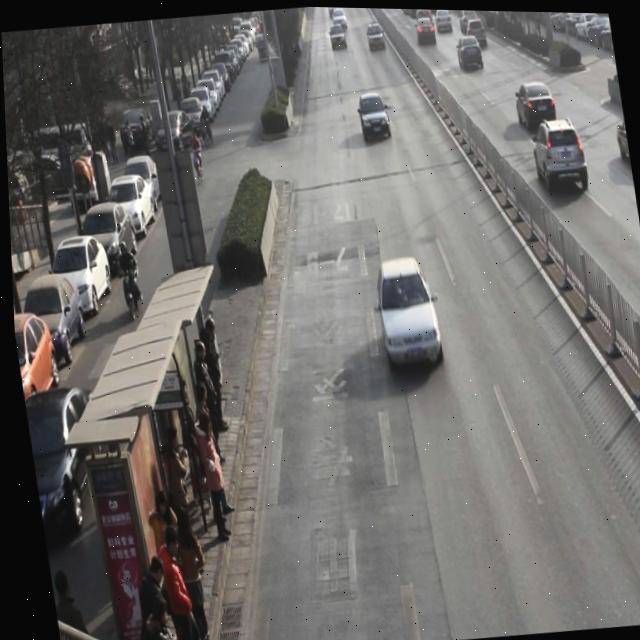car: (19, 384, 115, 539), (370, 264, 445, 385), (527, 112, 590, 195), (512, 73, 559, 131), (353, 88, 391, 143), (455, 31, 485, 70), (612, 104, 629, 160), (364, 19, 387, 52), (464, 15, 487, 46), (415, 13, 437, 45), (328, 21, 347, 50), (458, 8, 480, 30), (434, 8, 453, 31), (330, 6, 348, 26)
